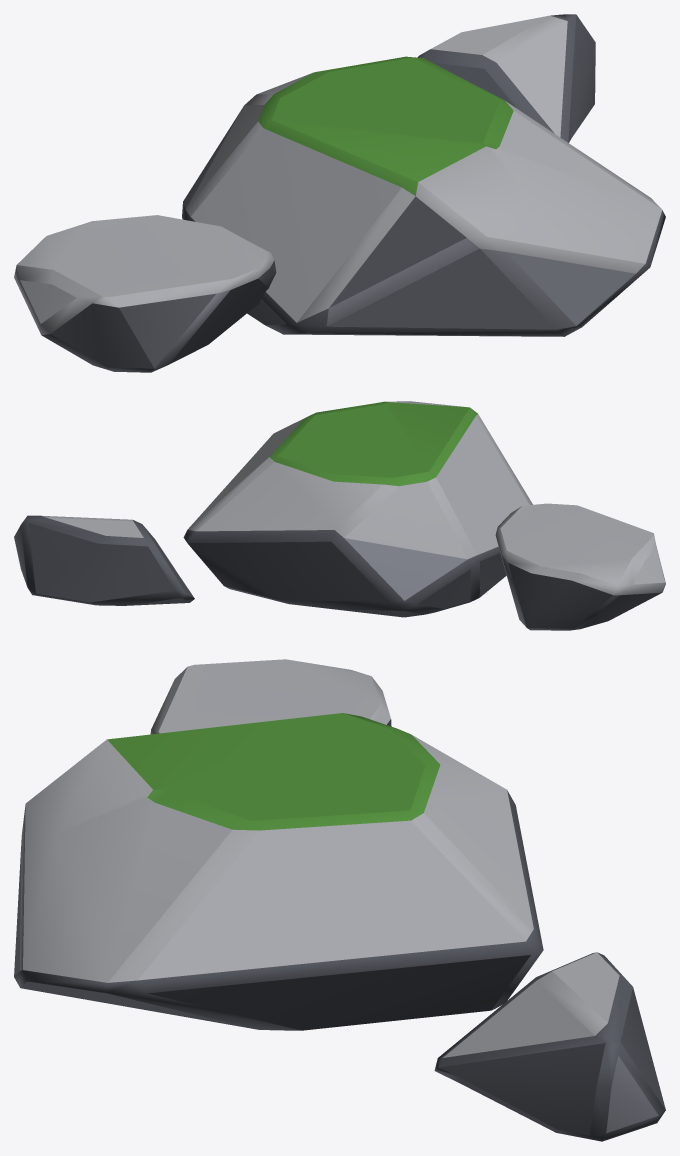
The model's file is Rock_14.glb.
3 views of the same model, one above another, from view 1: azimuth 30°, elevation 25°; view 2: azimuth 150°, elevation 25°; view 3: azimuth 270°, elevation 25° (orthographic). The views are drawn at different scales.
Visible parts, largest first — view 1: Rock_14; view 2: Rock_14; view 3: Rock_14.
Boxes of the visible parts, x1,y1,x2,y2 form: Rock_14: [14, 14, 665, 372]; Rock_14: [14, 401, 665, 630]; Rock_14: [14, 659, 665, 1141].
Bounding box in the file's own units: 3.94 × 0.8538 × 2.69.
